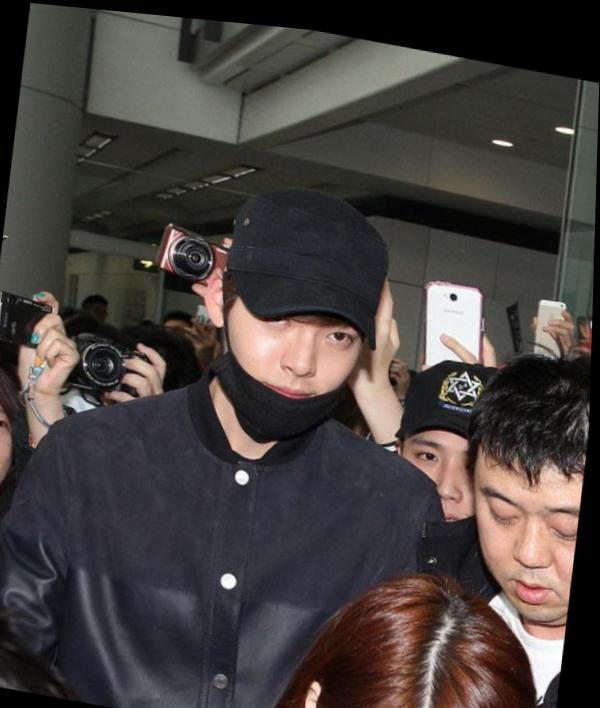NONE: (464, 467, 584, 617), (399, 418, 506, 538), (1, 401, 21, 501)
WRONG: (218, 272, 372, 435)
